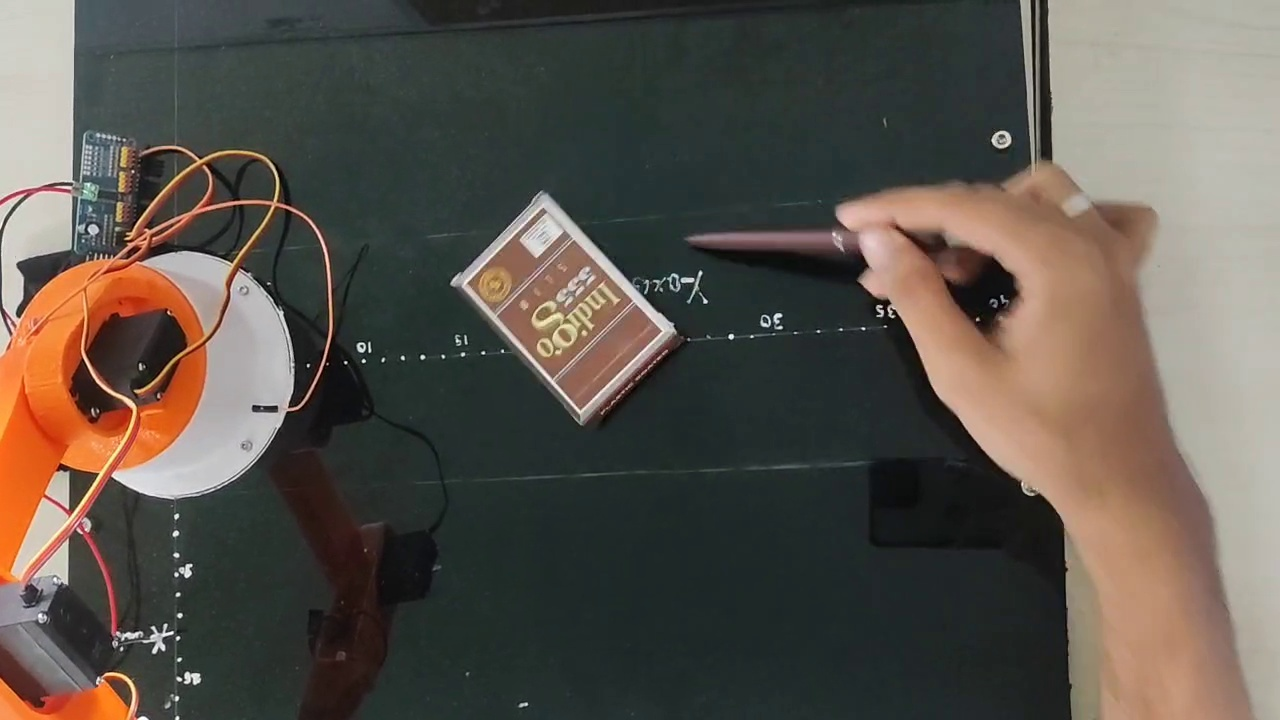BEX: (463, 198, 665, 414)
